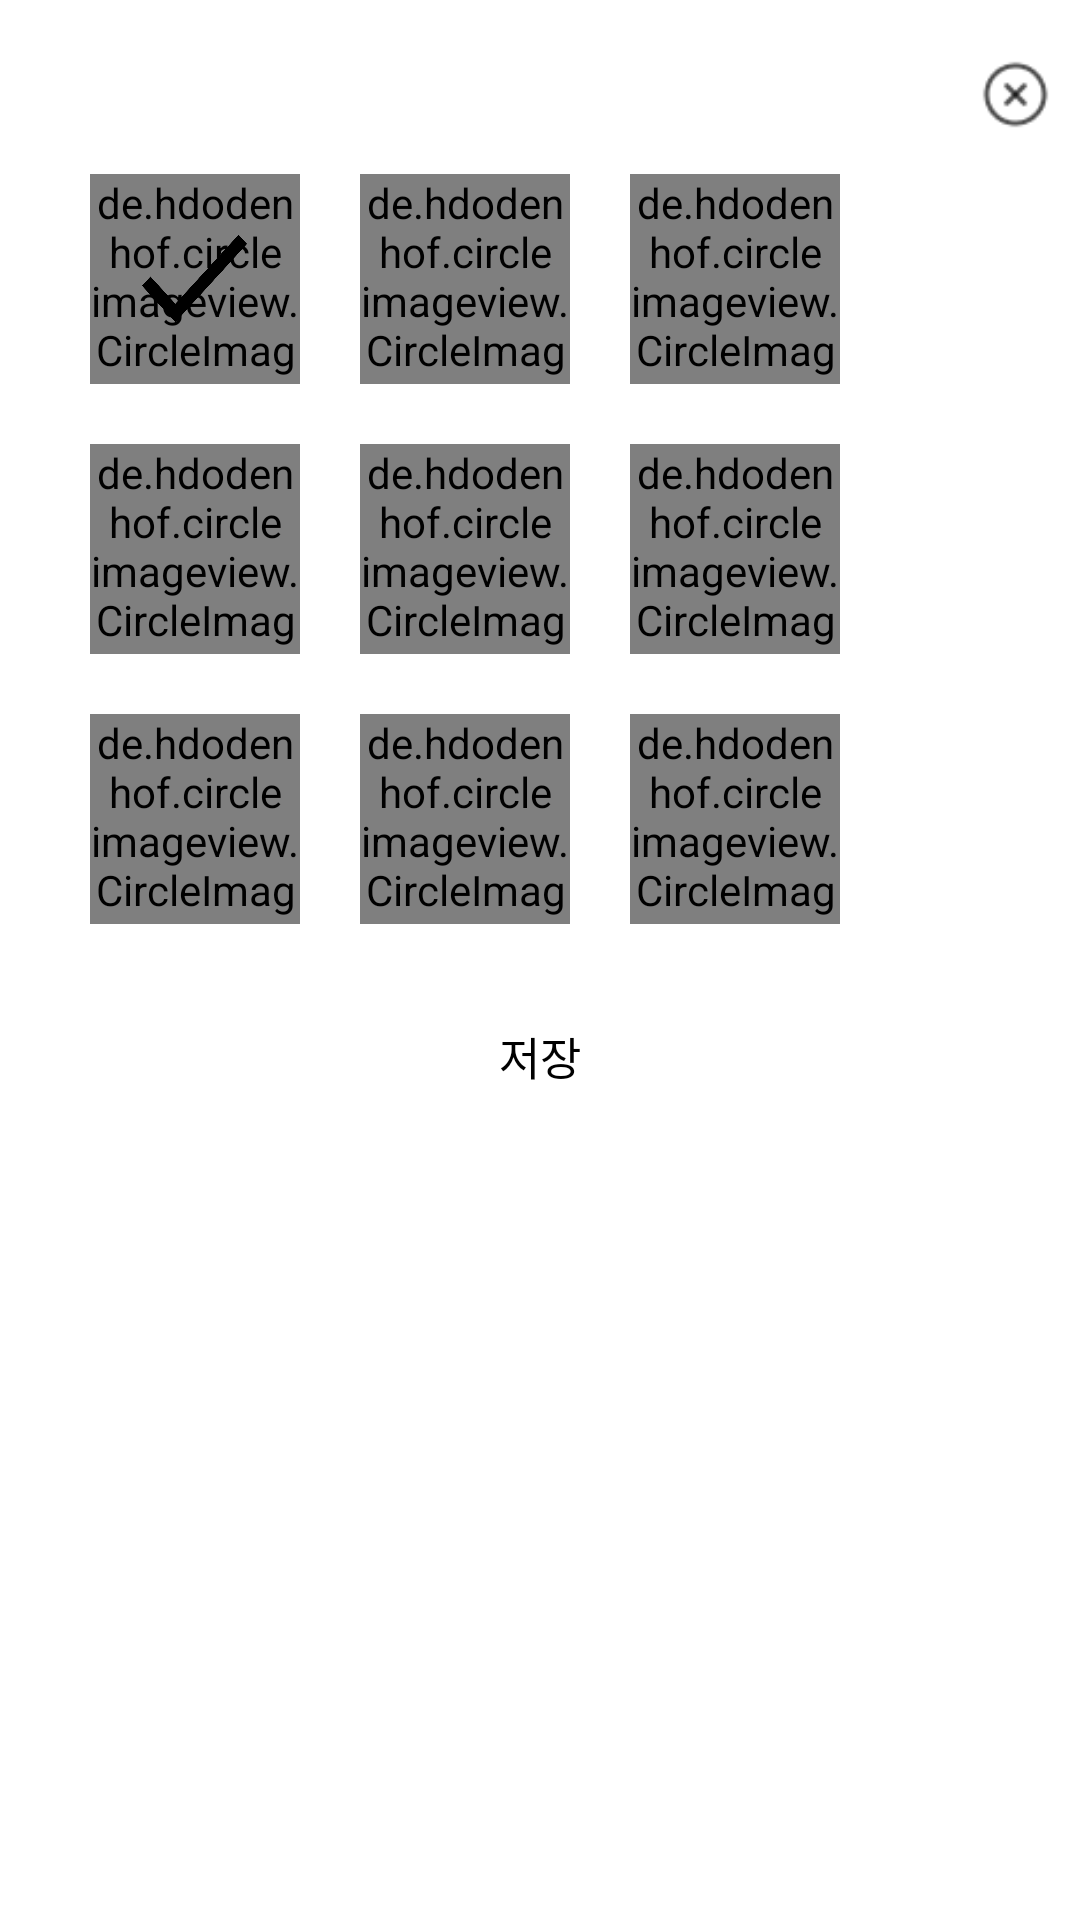

Where icons sit on this 1080px x 1920px app screen, as bbox=(x1, y1, x2, y2):
cancel: bbox=(983, 62, 1048, 127)
